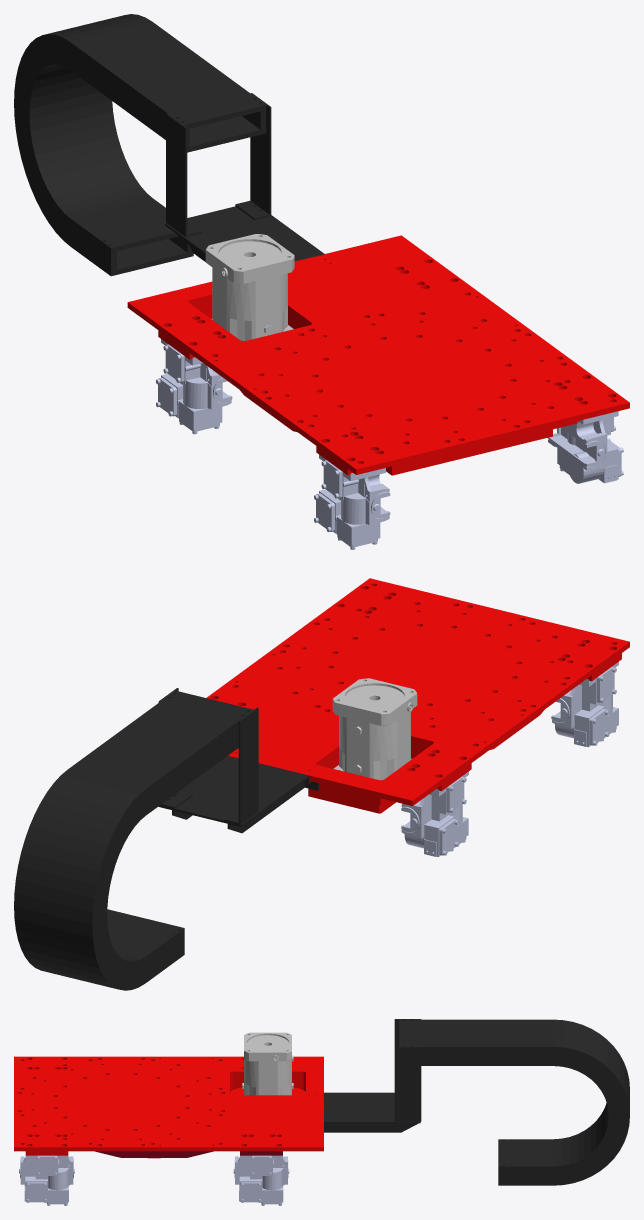
Rendered from right_mount.dae.
3 renders of one model, top to bottom at view 1: azimuth 30°, elevation 25°; view 2: azimuth 150°, elevation 25°; view 3: azimuth 270°, elevation 25°, orthographic. The views are drawn at different scales.
Visible parts, largest first — view 1: node8, node4, node9, node0, node1, node2, node5; view 2: node8, node4, node9, node5, node1, node0; view 3: node8, node4, node5, node9, node3, node2, node6.
Part boxes in pixels (x1,y1,x2,y2): node8: (127,235,629,475); node4: (14,14,271,276); node9: (205,234,294,340); node0: (314,454,390,549); node1: (156,339,232,434); node2: (547,411,623,483); node5: (165,206,324,261); node8: (206,578,629,813); node4: (14,688,258,990); node9: (332,678,417,780); node5: (158,755,319,833); node1: (401,771,468,856); node0: (551,662,618,747); node8: (14,1056,323,1158); node4: (394,1019,629,1185); node5: (323,1092,420,1132); node9: (242,1032,293,1095); node3: (233,1155,289,1205); node2: (19,1155,74,1205); node6: (95,1151,213,1157).
Size of the model in its own units: 0.664 by 1.87 by 0.464.
